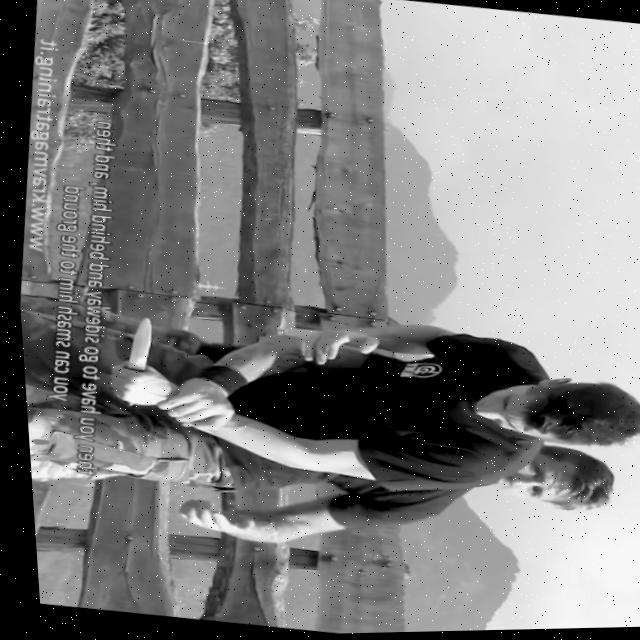knife: (114, 314, 153, 373)
